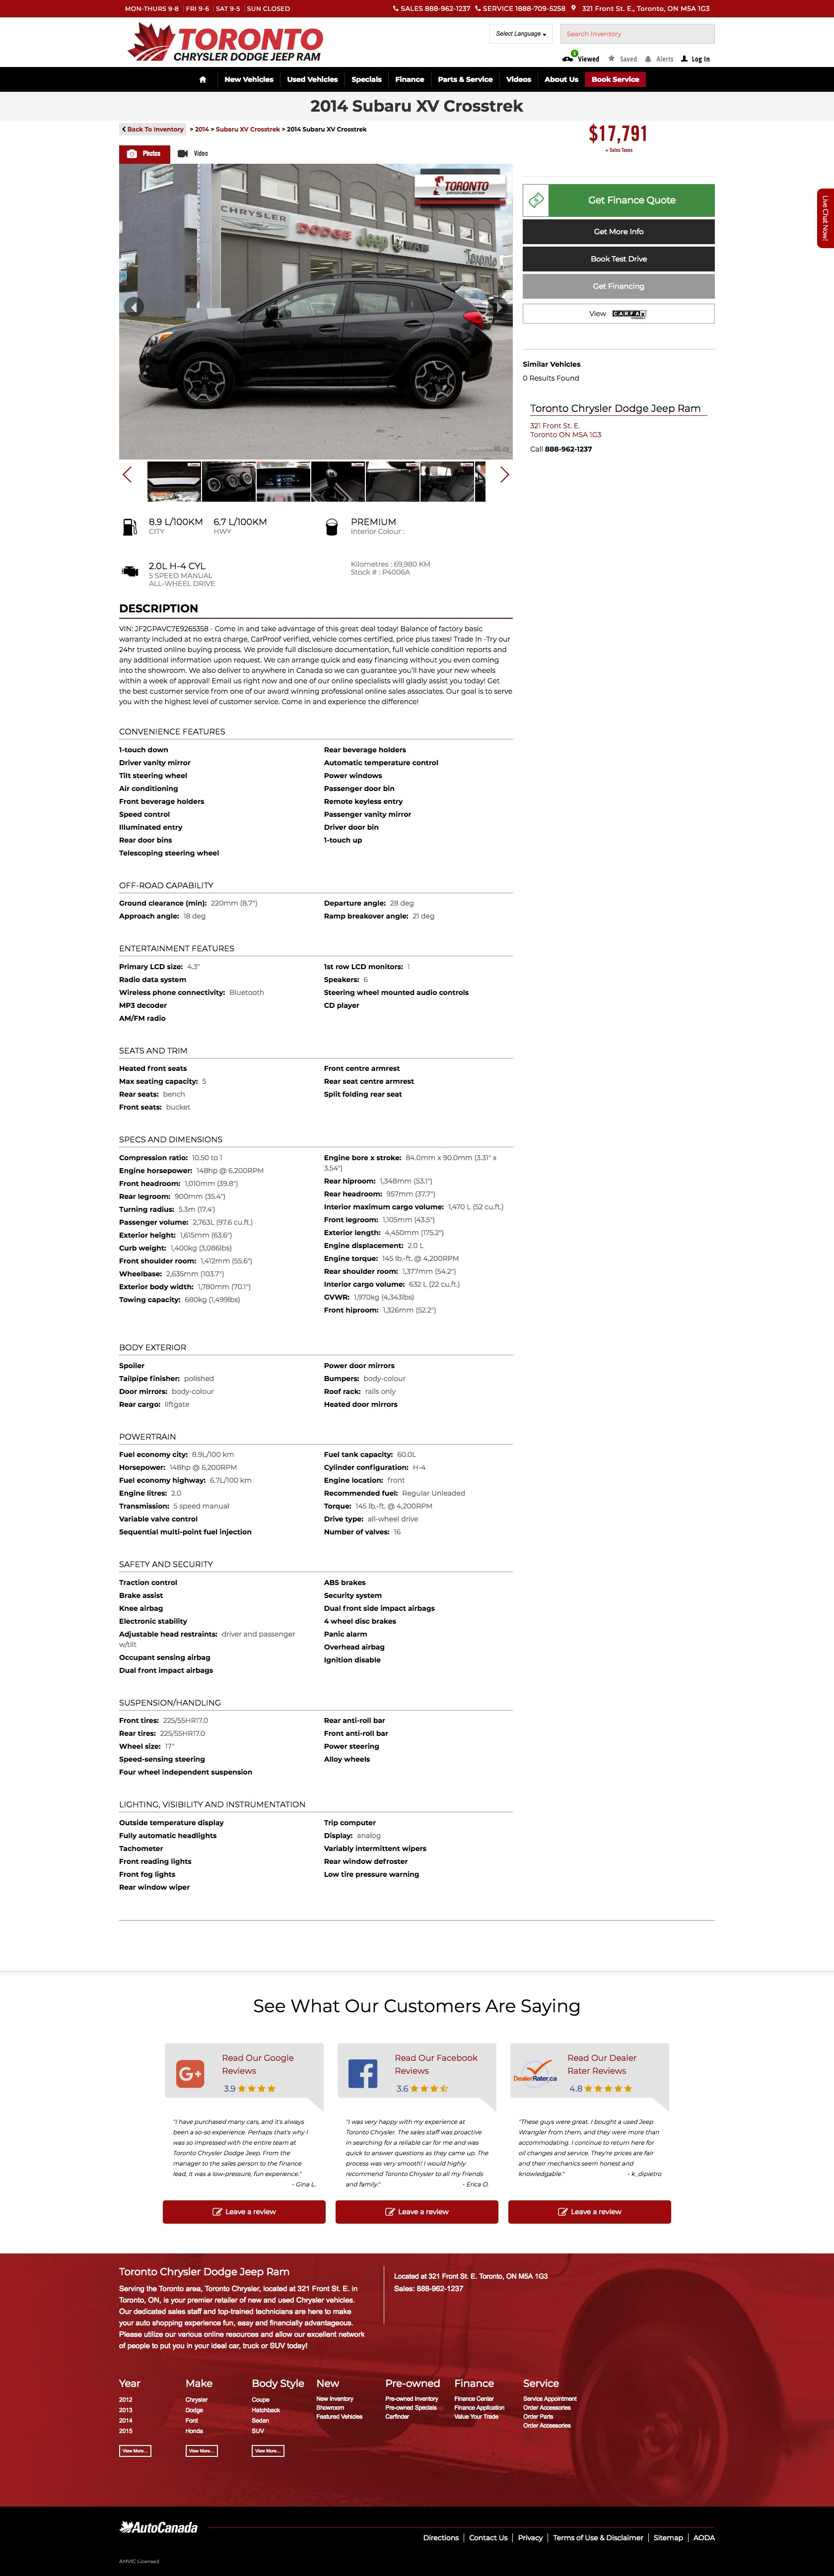car: (500, 467, 510, 485)
